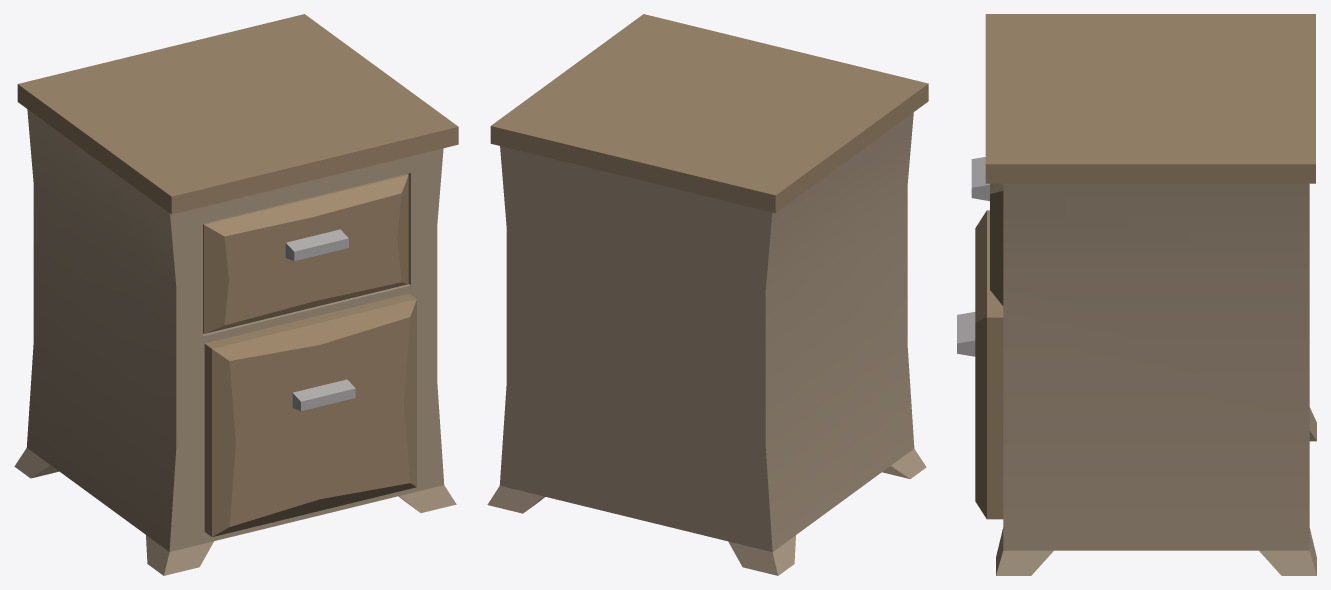
The model's file is BedsideTableBasic.glb.
The picture shows the model from 3 angles, left to right: view 1: azimuth 30°, elevation 25°; view 2: azimuth 150°, elevation 25°; view 3: azimuth 270°, elevation 25°; orthographic projection. The views are drawn at different scales.
Parts seen in each view (by area): view 1: pCube18, pCube21, pCube19, pCube20, pCube22, pCube27, pCube26, pCube24, pCube23; view 2: pCube18, pCube21, pCube23, pCube25, pCube22; view 3: pCube18, pCube21, pCube19, pCube20, pCube24, pCube25, pCube26, pCube27.
Boxes of the visible parts, box(x1,y1,x2,y2) form: pCube18: box(26, 109, 444, 551); pCube21: box(17, 14, 458, 214); pCube19: box(204, 293, 416, 536); pCube20: box(203, 174, 408, 333); pCube22: box(146, 535, 213, 575); pCube27: box(285, 229, 348, 261); pCube26: box(292, 379, 355, 411); pCube24: box(398, 485, 456, 512); pCube23: box(14, 448, 58, 478); pCube18: box(499, 112, 914, 551); pCube21: box(490, 14, 928, 213); pCube23: box(728, 535, 795, 575); pCube25: box(487, 486, 544, 513); pCube22: box(882, 448, 926, 479); pCube18: box(1003, 183, 1309, 550); pCube21: box(985, 14, 1315, 183); pCube19: box(975, 210, 1003, 519); pCube20: box(990, 183, 1003, 305); pCube24: box(996, 528, 1053, 575); pCube25: box(1259, 528, 1316, 575); pCube26: box(957, 312, 975, 356); pCube27: box(971, 157, 989, 200).
Bounding box in the file's own units: 31.99 × 39.87 × 31.7.
